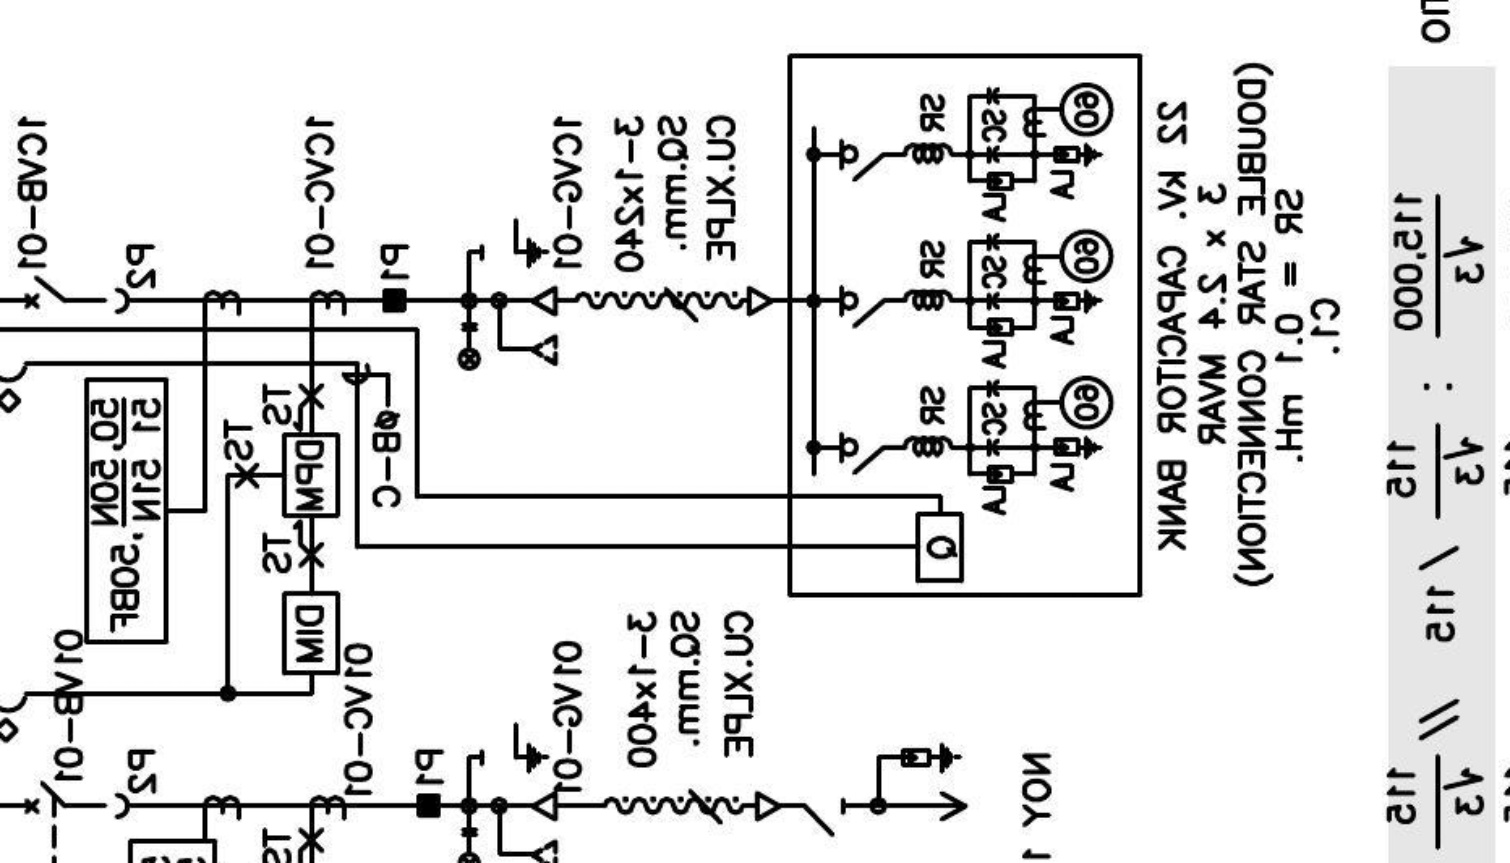22_cap_bank: (786, 52, 1144, 598)
22_ds_la_out: (804, 742, 970, 838)
22_gs: (479, 720, 552, 775), (479, 216, 552, 270)
22_ll: (455, 321, 482, 372)
DIM: (281, 589, 341, 677)
DPM: (281, 431, 342, 520)
Q: (915, 510, 966, 585)
terminator_single: (746, 284, 774, 318), (754, 790, 782, 823)
terminator_w_future: (496, 284, 559, 367)
